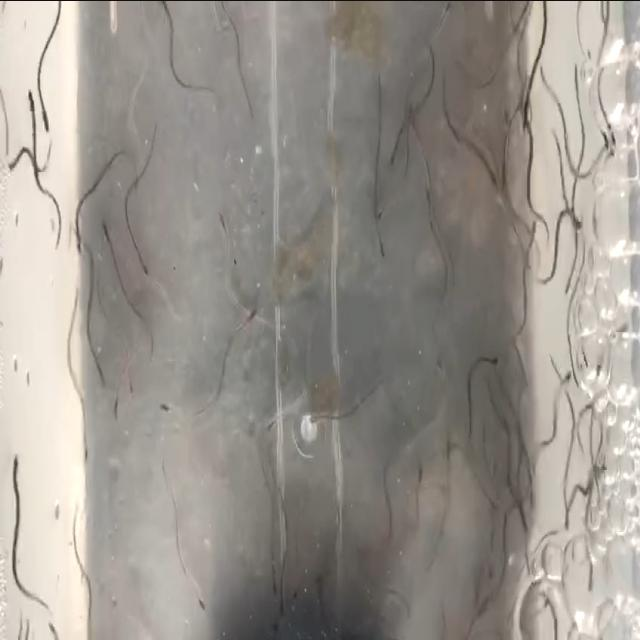active_glass_eel: (366, 188, 398, 252), (518, 471, 546, 528), (368, 236, 392, 302), (215, 207, 236, 271), (428, 0, 457, 45), (187, 568, 211, 620), (480, 150, 506, 198), (404, 440, 426, 496), (509, 1, 530, 57), (516, 223, 542, 266), (125, 354, 146, 406), (8, 440, 24, 508), (404, 97, 426, 143), (77, 421, 99, 466), (305, 390, 325, 438), (556, 359, 580, 399), (555, 500, 579, 540), (156, 381, 177, 426), (259, 544, 277, 596), (520, 120, 538, 170), (111, 377, 128, 428), (33, 88, 51, 136), (95, 215, 115, 258), (416, 179, 442, 212), (511, 502, 535, 537), (134, 245, 158, 279), (268, 590, 292, 624), (87, 352, 109, 387), (158, 0, 182, 32), (22, 89, 40, 129), (243, 299, 261, 339), (5, 126, 16, 190), (520, 84, 536, 128), (538, 582, 558, 617), (70, 215, 86, 258), (382, 130, 400, 168), (564, 207, 583, 243), (580, 562, 598, 600), (480, 340, 502, 370), (432, 353, 449, 391), (606, 120, 620, 164), (570, 61, 585, 101), (544, 266, 555, 318), (440, 435, 459, 465), (592, 454, 610, 484), (498, 105, 514, 136), (496, 498, 508, 538), (576, 476, 593, 504), (521, 360, 535, 392), (264, 410, 278, 438)
